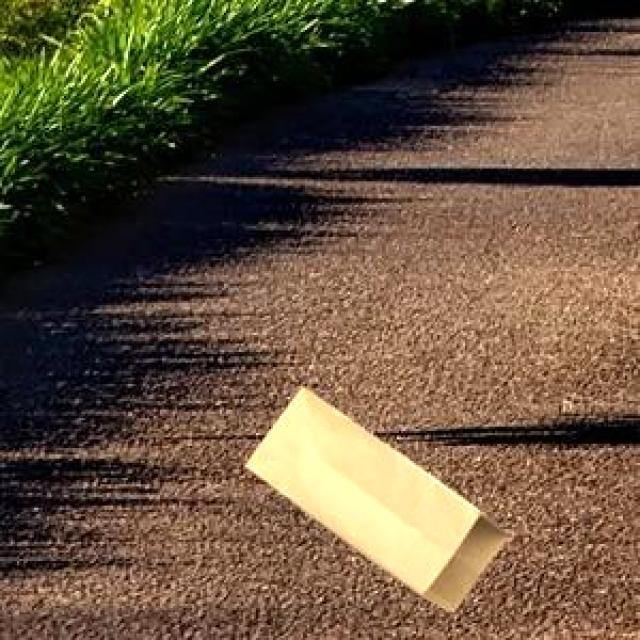Paper_Bag: (242, 385, 505, 609)
